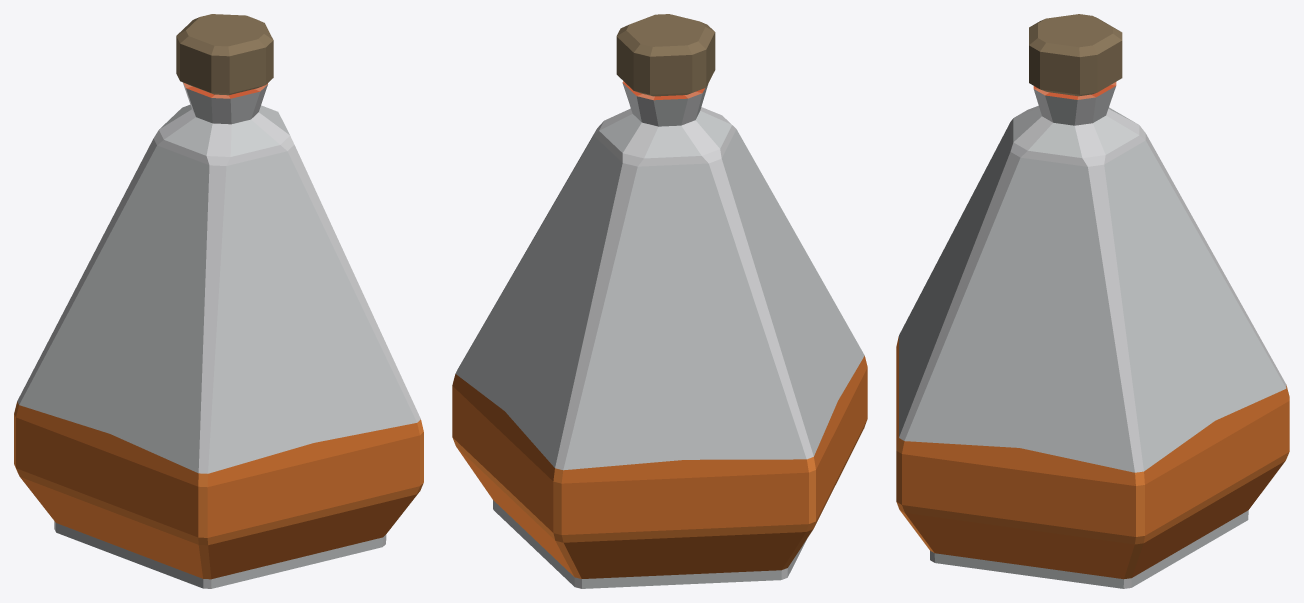
Rendered from WF_LP_HT_Props_PotionBottle.002.fbx.
The picture shows the model from 3 angles, left to right: view 1: azimuth 30°, elevation 25°; view 2: azimuth 150°, elevation 25°; view 3: azimuth 270°, elevation 25°; orthographic projection.
Visible parts, largest first — view 1: WF_LP_HT_Props_PotionBottle.002; view 2: WF_LP_HT_Props_PotionBottle.002; view 3: WF_LP_HT_Props_PotionBottle.002.
Part boxes in pixels (x1,y1,x2,y2): WF_LP_HT_Props_PotionBottle.002: (14,14,423,588); WF_LP_HT_Props_PotionBottle.002: (452,14,867,588); WF_LP_HT_Props_PotionBottle.002: (896,14,1289,588).
Bounding box in the file's own units: 0.2221 × 0.289 × 0.2112.
